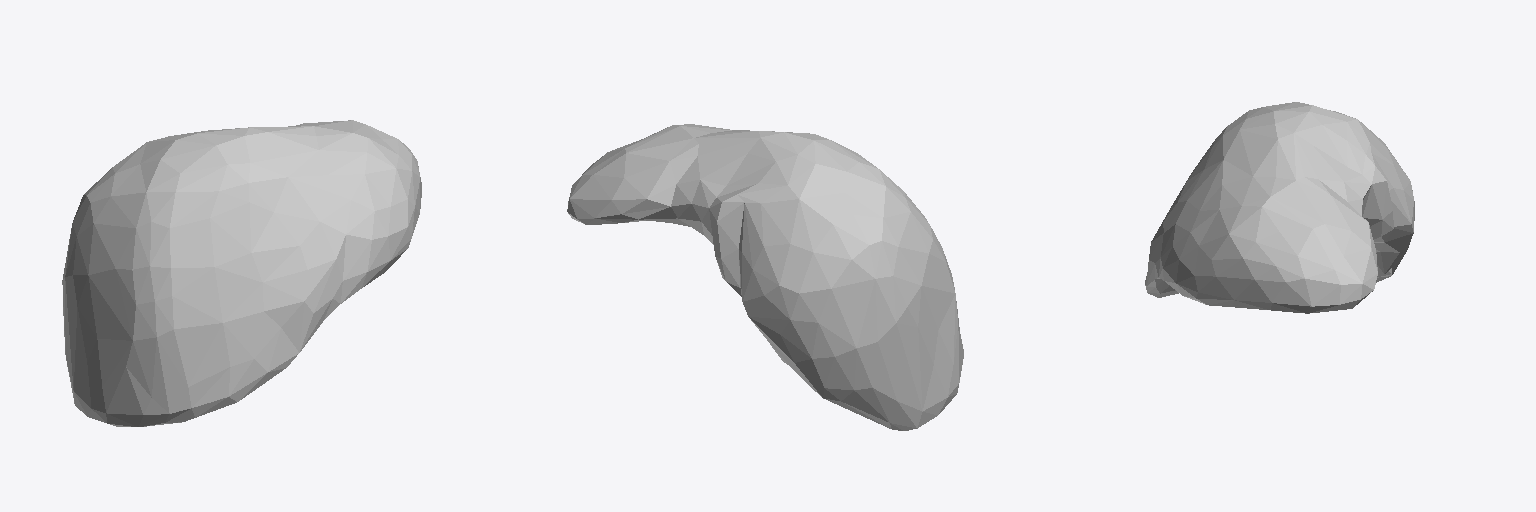
Rendered from visual_foie_bgn_rec.obj.
3 views of the same model, side by side, from view 1: azimuth 30°, elevation 25°; view 2: azimuth 150°, elevation 25°; view 3: azimuth 270°, elevation 25° (orthographic).
Size of the model in its own units: 6.68 by 4.64 by 4.54.